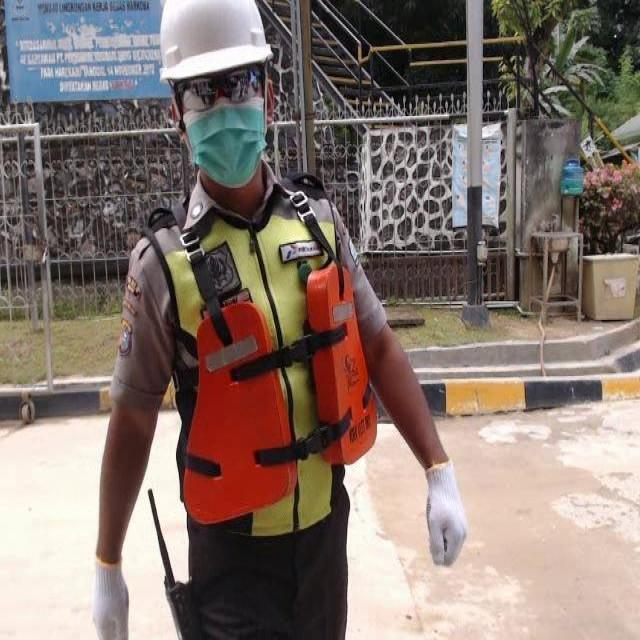Vest: (178, 262, 379, 530)
